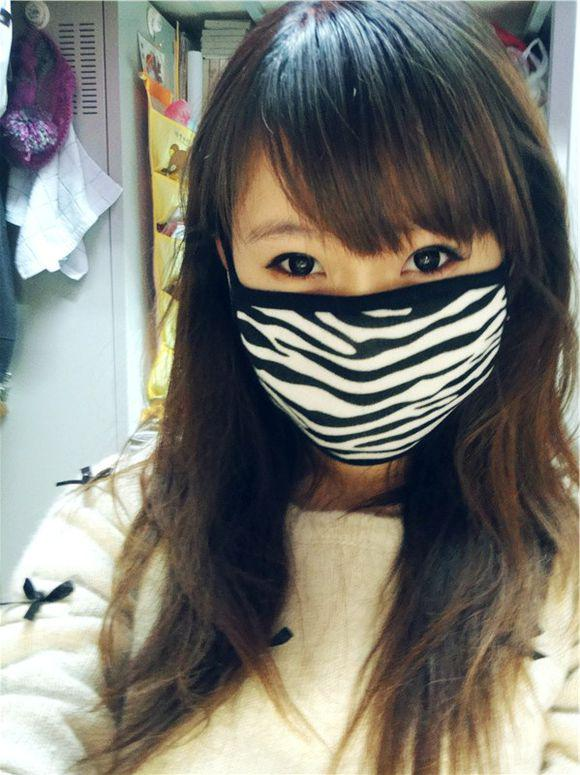OK: (250, 185, 504, 439)
